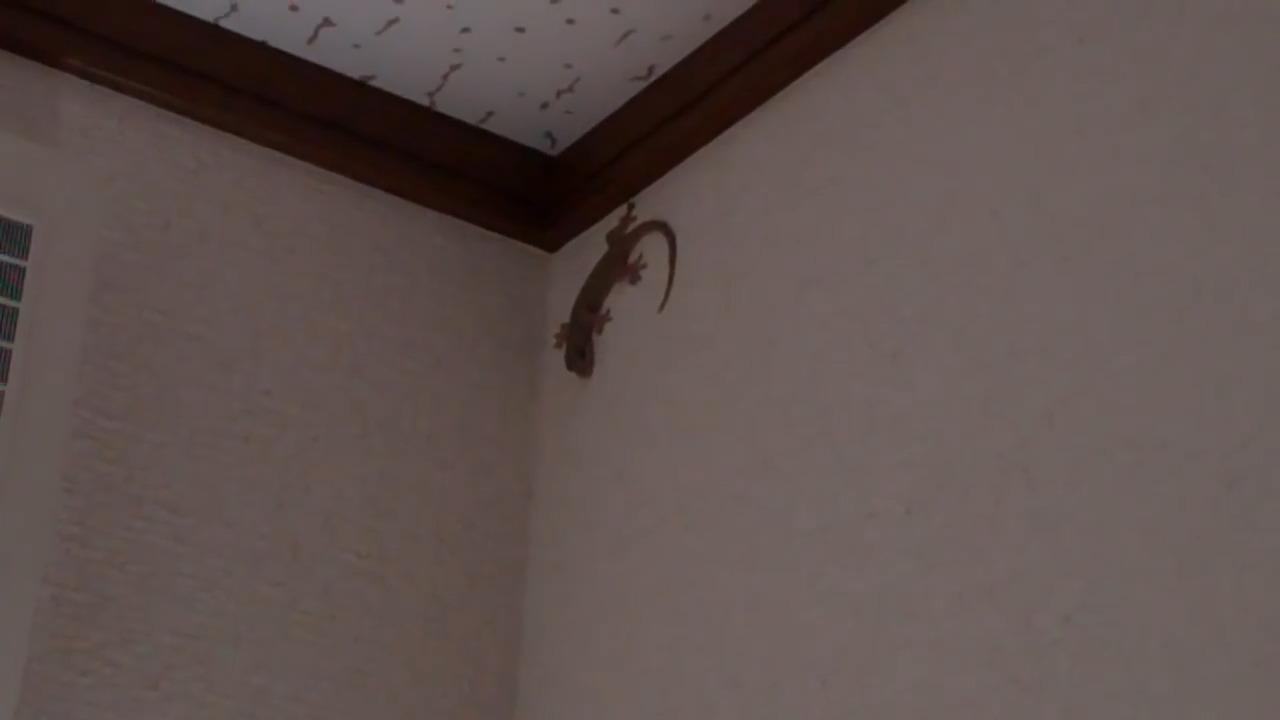lizard: (526, 206, 710, 390)
